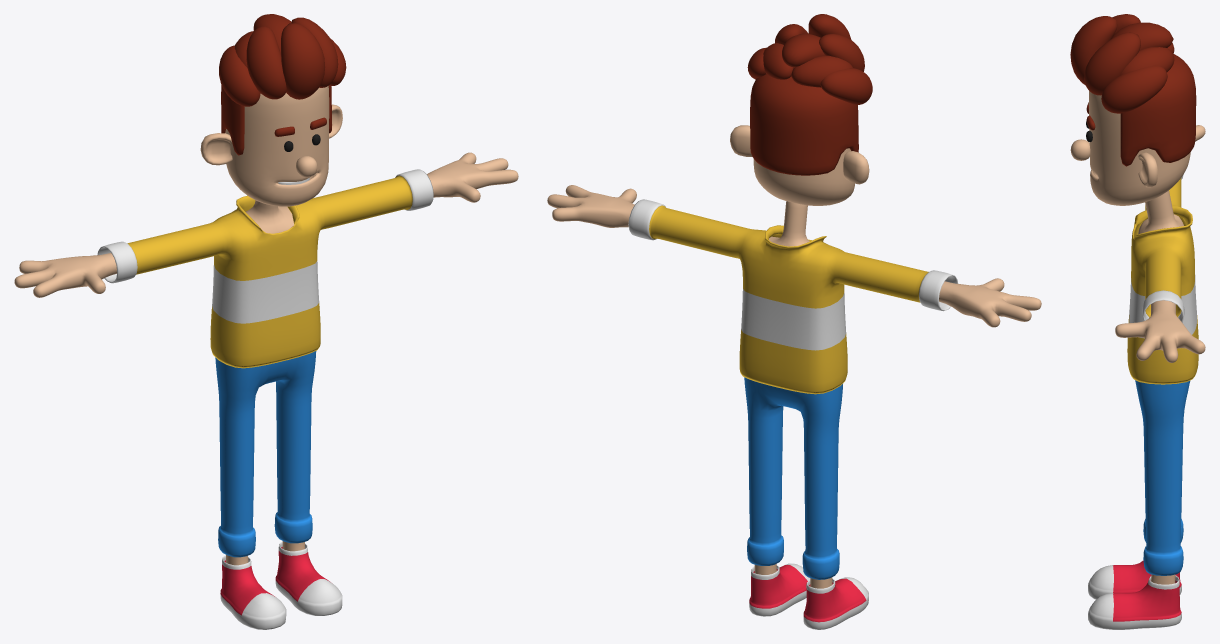
File: Boy.fbx
3 views of the same model, side by side, from view 1: azimuth 30°, elevation 25°; view 2: azimuth 150°, elevation 25°; view 3: azimuth 270°, elevation 25° (orthographic).
Visible parts, largest first — view 1: Shirt, Parts, Head, Hair Base, Body, Shoes; view 2: Shirt, Hair Base, Parts, Body, Shoes, Head; view 3: Hair Base, Shirt, Parts, Head, Shoes, Body.
Boxes of the visible parts, left/top/right/bottom form: Shirt: left=97, top=169, right=433, bottom=368; Parts: left=215, top=351, right=316, bottom=557; Head: left=200, top=86, right=342, bottom=206; Hair Base: left=219, top=14, right=346, bottom=155; Body: left=14, top=152, right=518, bottom=565; Shoes: left=220, top=541, right=342, bottom=629; Shirt: left=628, top=199, right=958, bottom=394; Hair Base: left=747, top=14, right=872, bottom=175; Parts: left=744, top=377, right=842, bottom=579; Body: left=547, top=185, right=1041, bottom=588; Shoes: left=749, top=563, right=868, bottom=629; Head: left=730, top=125, right=869, bottom=205; Hair Base: left=1070, top=14, right=1196, bottom=166; Shirt: left=1127, top=175, right=1198, bottom=384; Parts: left=1135, top=380, right=1190, bottom=575; Head: left=1070, top=91, right=1190, bottom=205; Shoes: left=1088, top=560, right=1181, bottom=629; Body: left=1115, top=125, right=1205, bottom=584.
Bounding box in the file's own units: 371 × 426 × 88.42.
